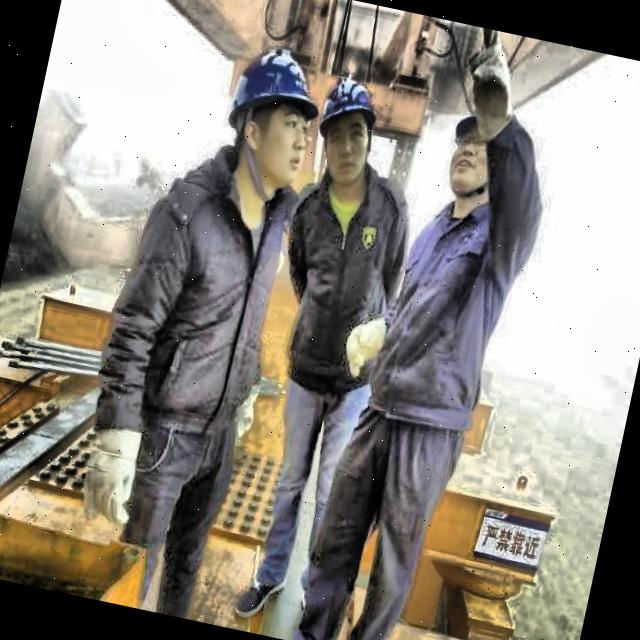helmet: (206, 26, 334, 207), (303, 62, 389, 200)
